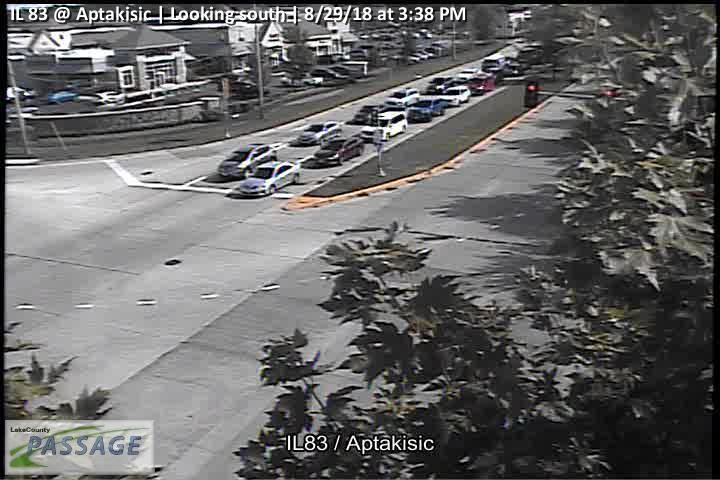SUV: (218, 143, 278, 181), (360, 112, 408, 140), (384, 88, 420, 109), (464, 77, 496, 95)
Sedan: (238, 159, 303, 197), (315, 138, 365, 166), (296, 121, 343, 146), (407, 100, 445, 124), (444, 86, 472, 102), (458, 68, 479, 79)
